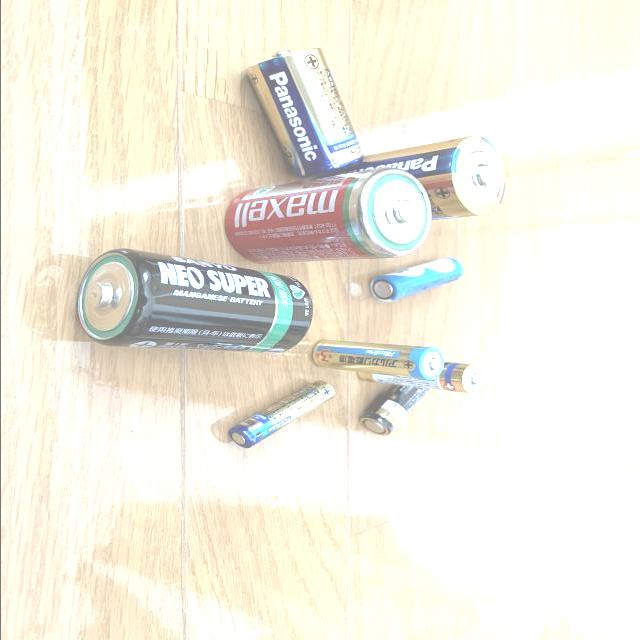AA: (312, 338, 441, 381), (368, 256, 464, 304)
AAA: (225, 380, 338, 450)
